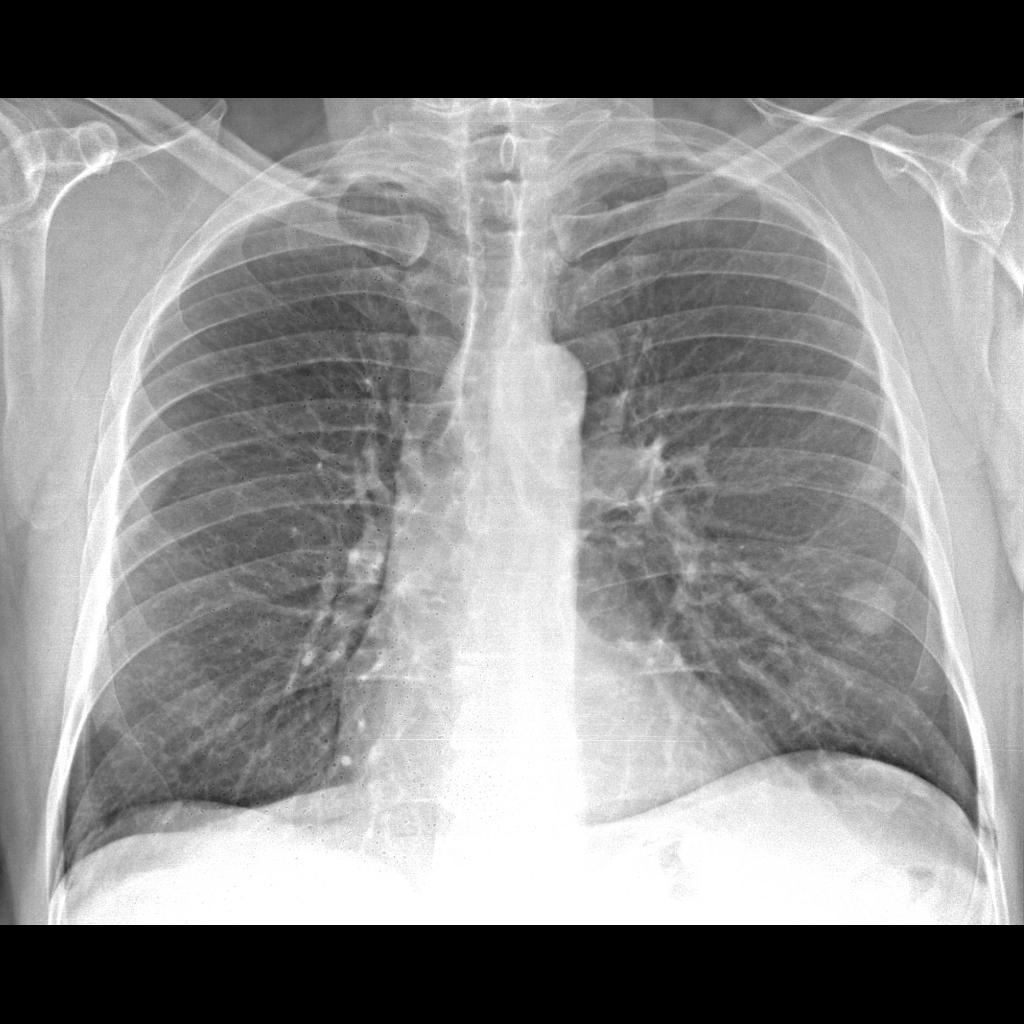Nodule: (831, 568, 903, 644)
